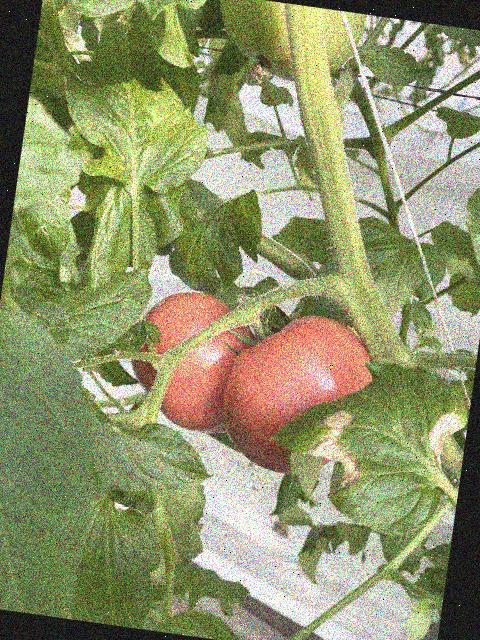b_fully_ripened: (212, 303, 385, 486), (121, 285, 261, 439)
b_green: (210, 0, 367, 90)
